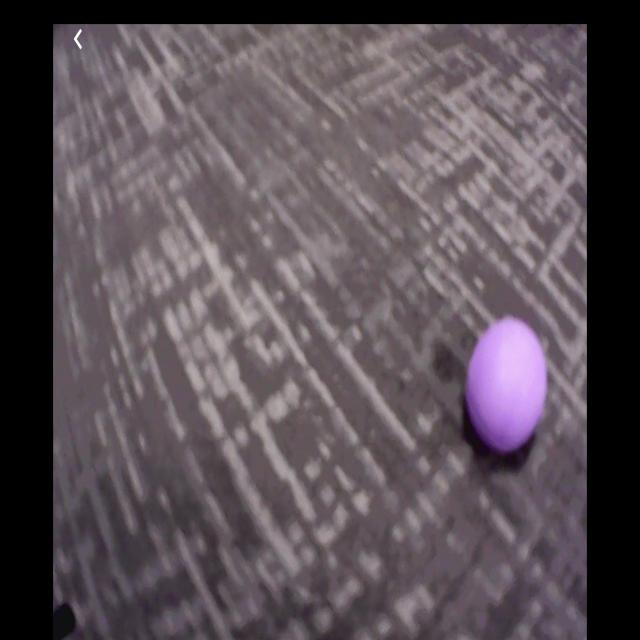ball: (468, 320, 549, 454)
